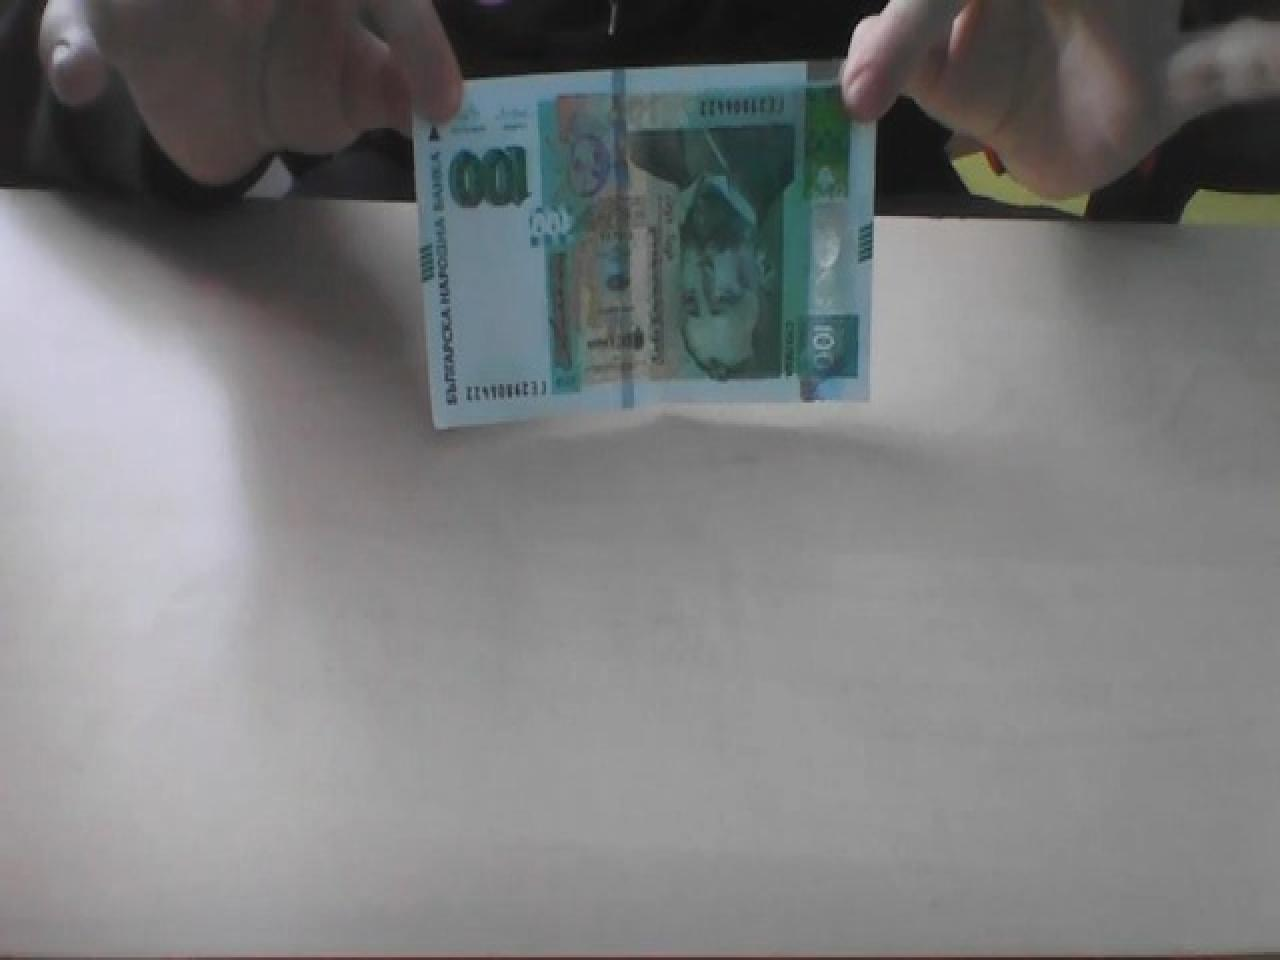100leva: (412, 58, 876, 432)
